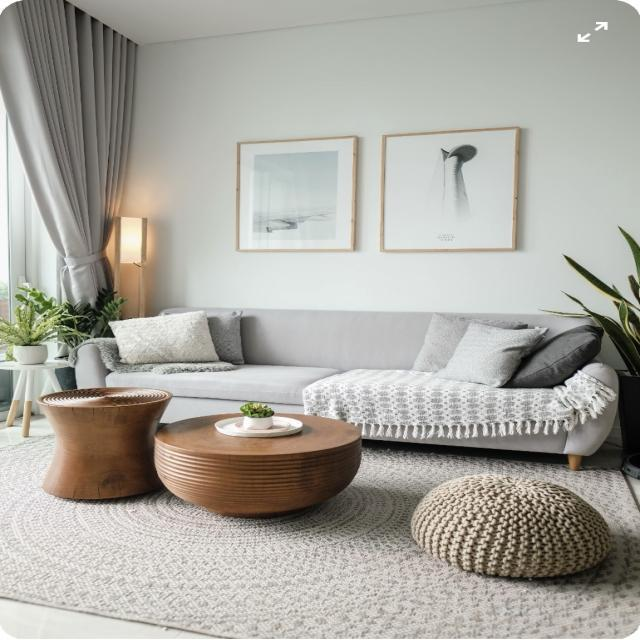picture: (380, 128, 530, 263), (232, 137, 364, 255)
pillow: (422, 308, 534, 392), (108, 314, 237, 367)
potted plant: (0, 294, 57, 366), (228, 395, 286, 432)
sofa: (73, 304, 638, 481)
table: (158, 406, 368, 516), (41, 383, 169, 506)
